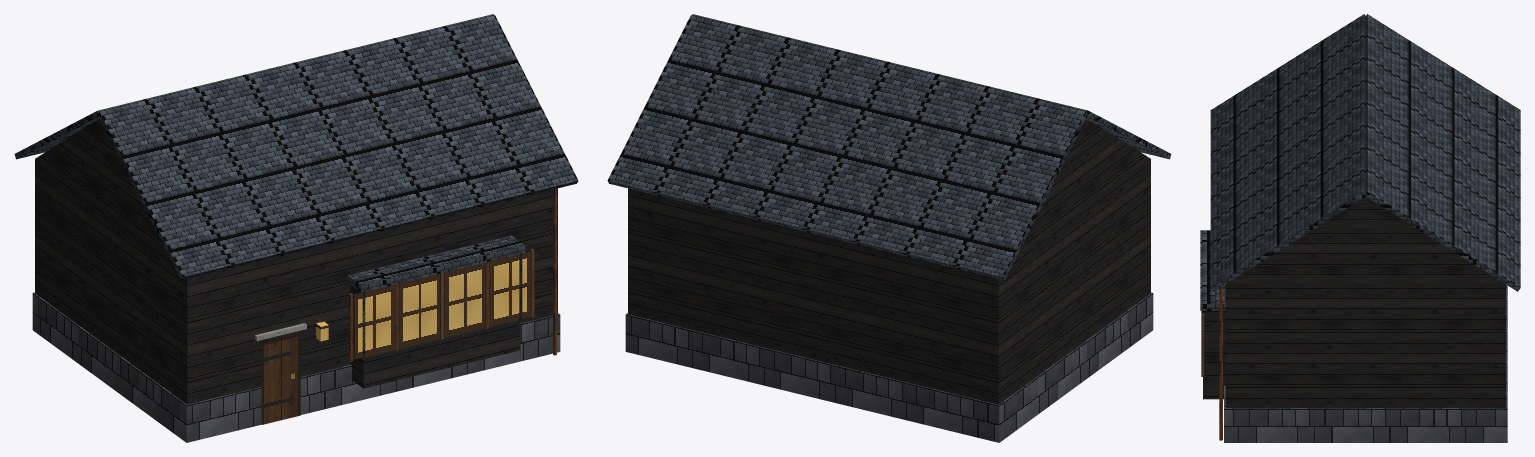
File: taberna.obj
3 views of the same model, side by side, from view 1: azimuth 30°, elevation 25°; view 2: azimuth 150°, elevation 25°; view 3: azimuth 270°, elevation 25° (orthographic). The views are drawn at different scales.
Visible parts, largest first — view 1: taberna; view 2: taberna; view 3: taberna.
Boxes of the visible parts, x1,y1,x2,y2 form: taberna: [14, 14, 578, 442]; taberna: [607, 14, 1171, 442]; taberna: [1200, 14, 1520, 442].
Bounding box in the file's own units: 11.1 × 7.46 × 8.46.
Materials: 9 (9 with a texture image).
